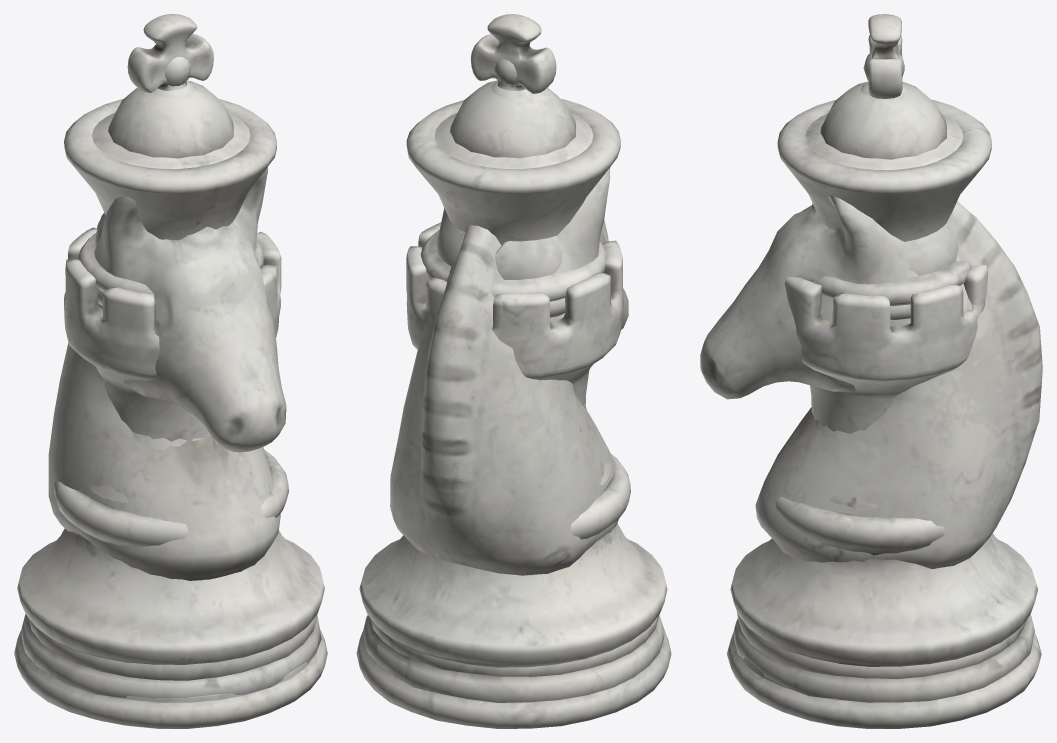
File: classic-pieces.glb
The picture shows the model from 3 angles, left to right: view 1: azimuth 30°, elevation 25°; view 2: azimuth 150°, elevation 25°; view 3: azimuth 270°, elevation 25°; orthographic projection.
Visible parts, largest first — view 1: piece_q, piece_n, piece_k, piece_r, piece_b; view 2: piece_q, piece_n, piece_k, piece_r, piece_b; view 3: piece_n, piece_q, piece_r, piece_k, piece_b.
Boxes of the visible parts, box(x1,y1,x2,y2) form: piece_q: box(17, 57, 324, 698); piece_n: box(29, 167, 316, 728); piece_k: box(14, 14, 327, 728); piece_r: box(64, 227, 281, 441); piece_b: box(95, 81, 193, 246); piece_q: box(359, 59, 667, 702); piece_n: box(371, 167, 658, 676); piece_k: box(356, 14, 671, 728); piece_r: box(406, 222, 624, 407); piece_b: box(437, 81, 562, 279); piece_n: box(700, 195, 1042, 728); piece_q: box(730, 52, 1037, 702); piece_r: box(784, 264, 988, 433); piece_k: box(727, 14, 1041, 728); piece_b: box(861, 81, 958, 275).
Bounding box in the file's own units: 0.0415 × 0.0953 × 0.0454.
Materials: 1 (1 with a texture image).
